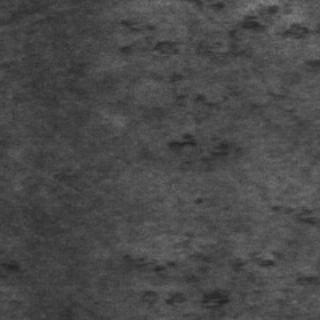rolled pit: (120, 213, 314, 307), (119, 0, 307, 54), (162, 83, 232, 169)
